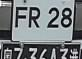2: (46, 5, 61, 32)
8: (60, 5, 73, 32)
F: (15, 3, 29, 33)
R: (27, 4, 43, 32)
